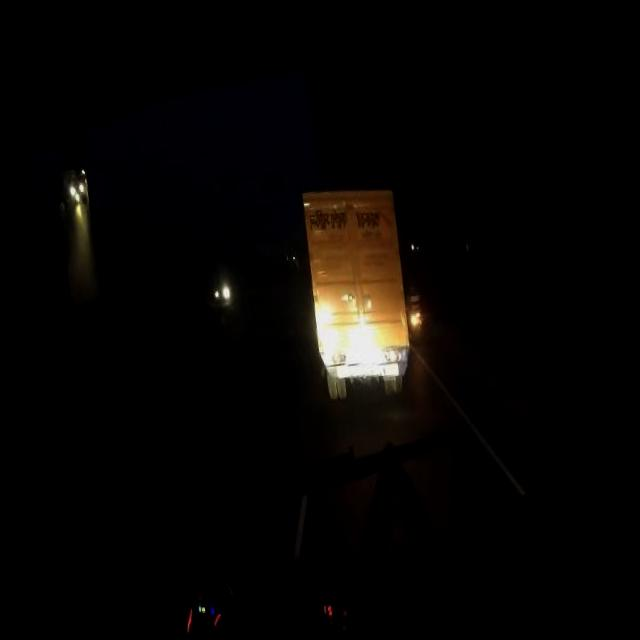truck: (295, 174, 424, 398)
